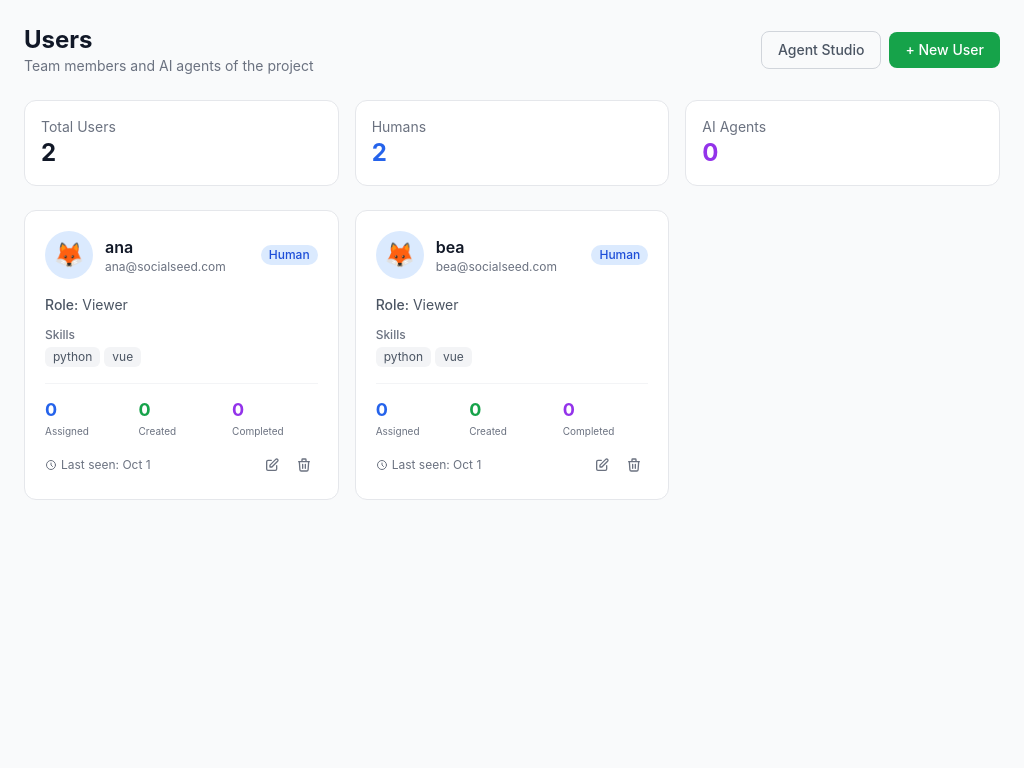
UsersView edit flow (issue #560) › keeps badge, avatar and buttons on the card after saving an edit
Click the button named "Edit user" below "ana@socialseed.com": (272,465) [258,451,286,479]
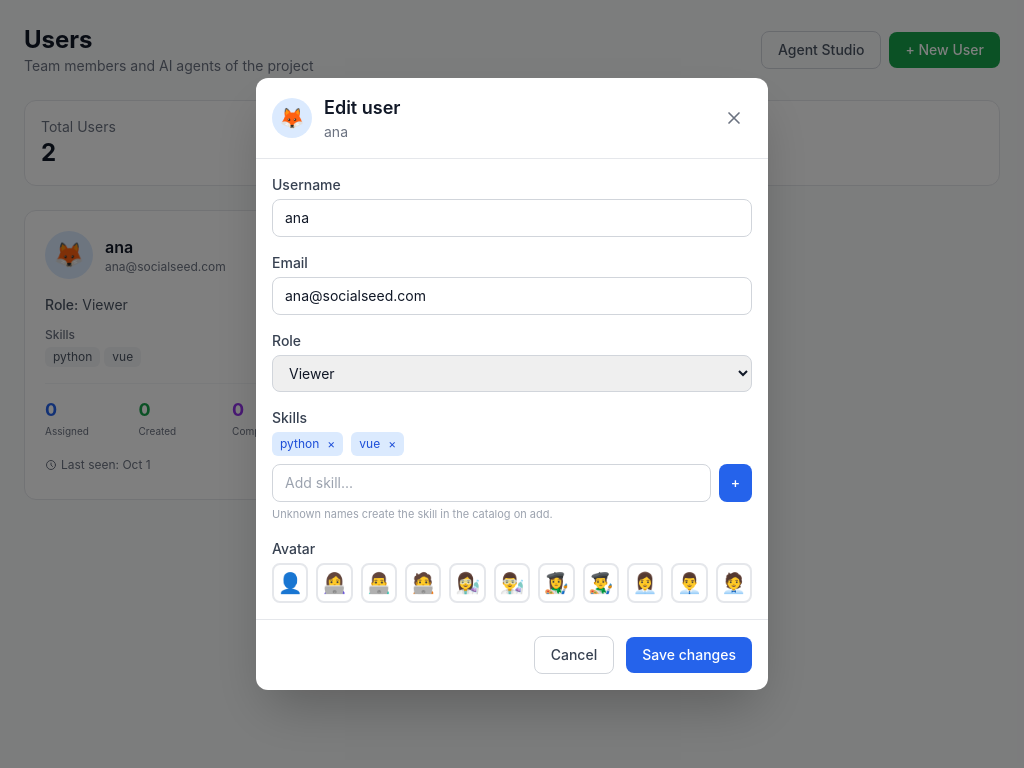
Replace the text in the field below "Username" with "ana-g": (512,218) [272,199,752,237]
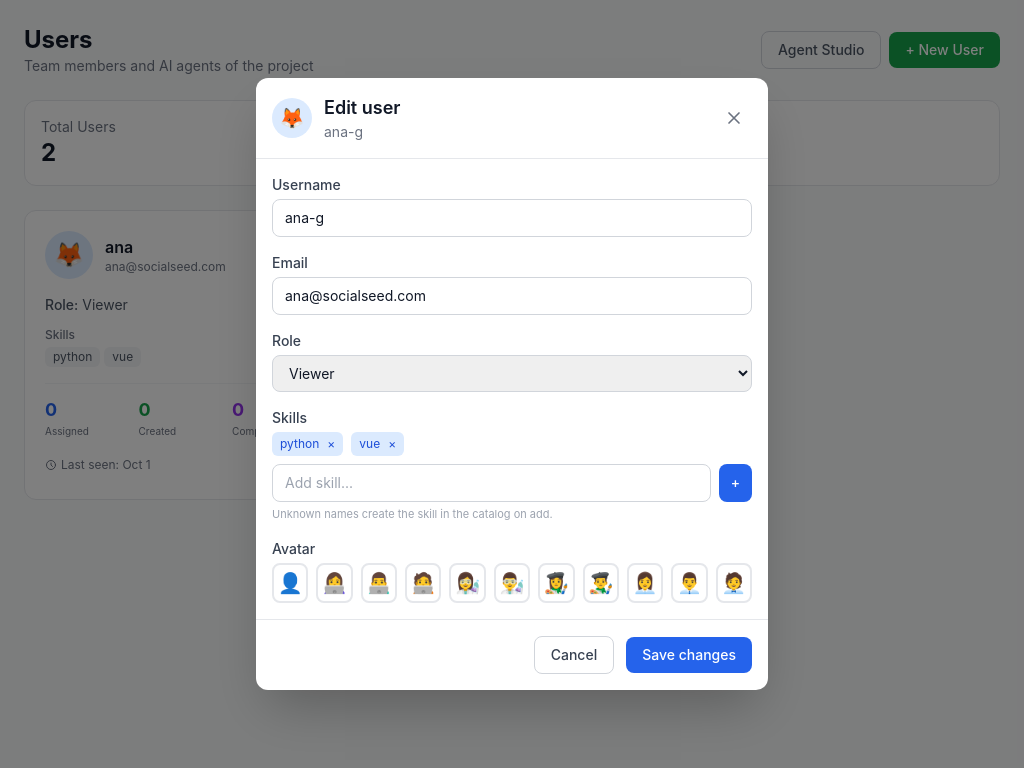
Result: the button "Save changes" is shown
Click the button "Save changes": (689,655) [626,637,752,673]
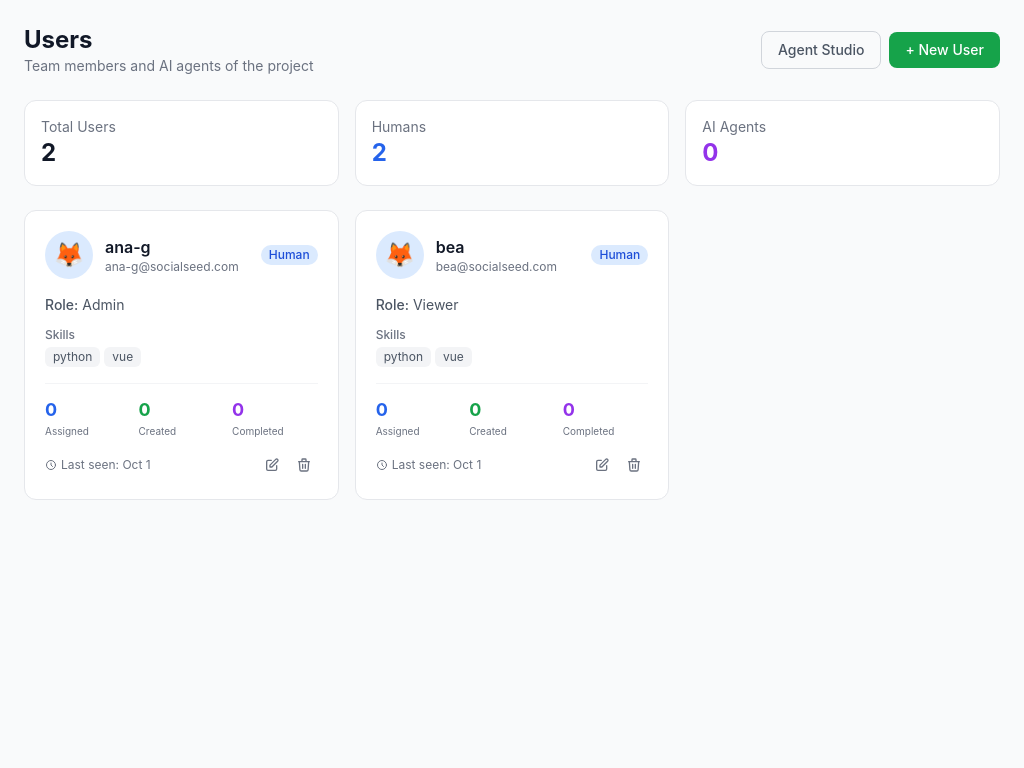
Expected: the text "Human" is shown, [372,118,426,135]
Result: the text "ana-g" is shown at [105,237,151,257]
Result: the heading "ana-g" is shown at [105,237,151,257]
